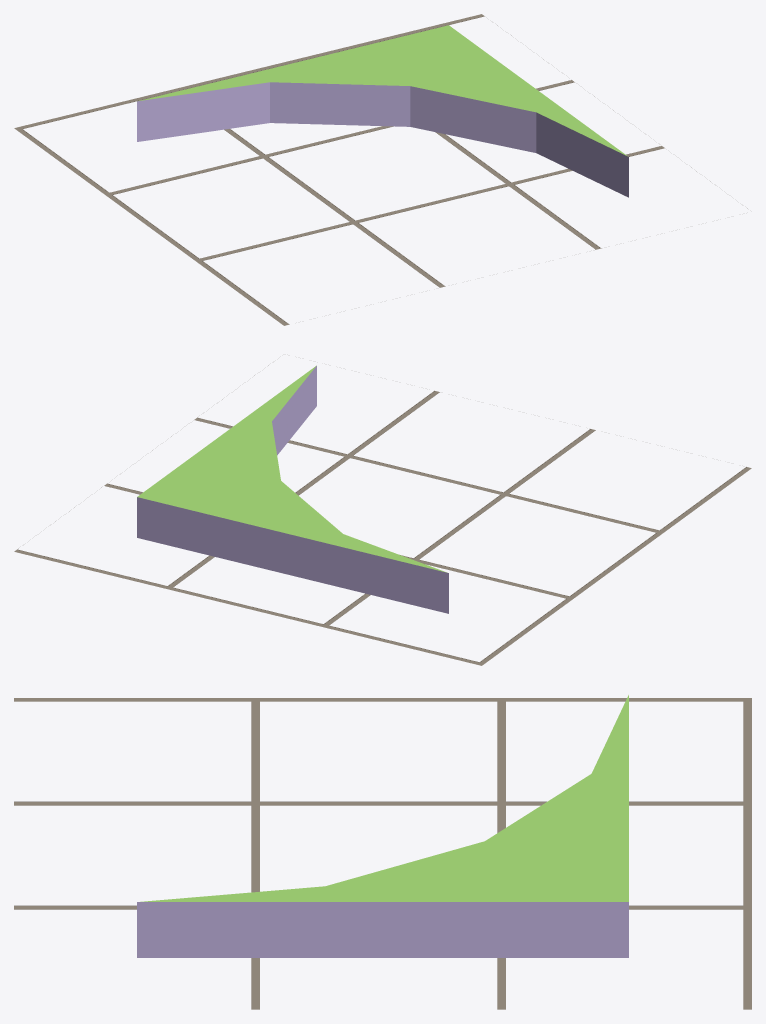
The model's file is Tiered_Grass_Curve_Inner_2x2.glb.
3 views of the same model, one above another, from view 1: azimuth 30°, elevation 25°; view 2: azimuth 150°, elevation 25°; view 3: azimuth 270°, elevation 25° (orthographic). The views are drawn at different scales.
Parts seen in each view (by area): view 1: Tiered_Grass_Curve_Inner_2x2, Floor; view 2: Tiered_Grass_Curve_Inner_2x2, Floor; view 3: Tiered_Grass_Curve_Inner_2x2, Floor.
Part boxes in pixels (x1,y1,x2,y2): Tiered_Grass_Curve_Inner_2x2: (137, 25, 628, 197); Floor: (14, 14, 747, 325); Tiered_Grass_Curve_Inner_2x2: (137, 365, 448, 613); Floor: (14, 365, 751, 665); Tiered_Grass_Curve_Inner_2x2: (137, 695, 628, 957); Floor: (14, 698, 751, 1009).
Bounding box in the file's own units: 300 × 25 × 300.
4 materials, 1 textured.
